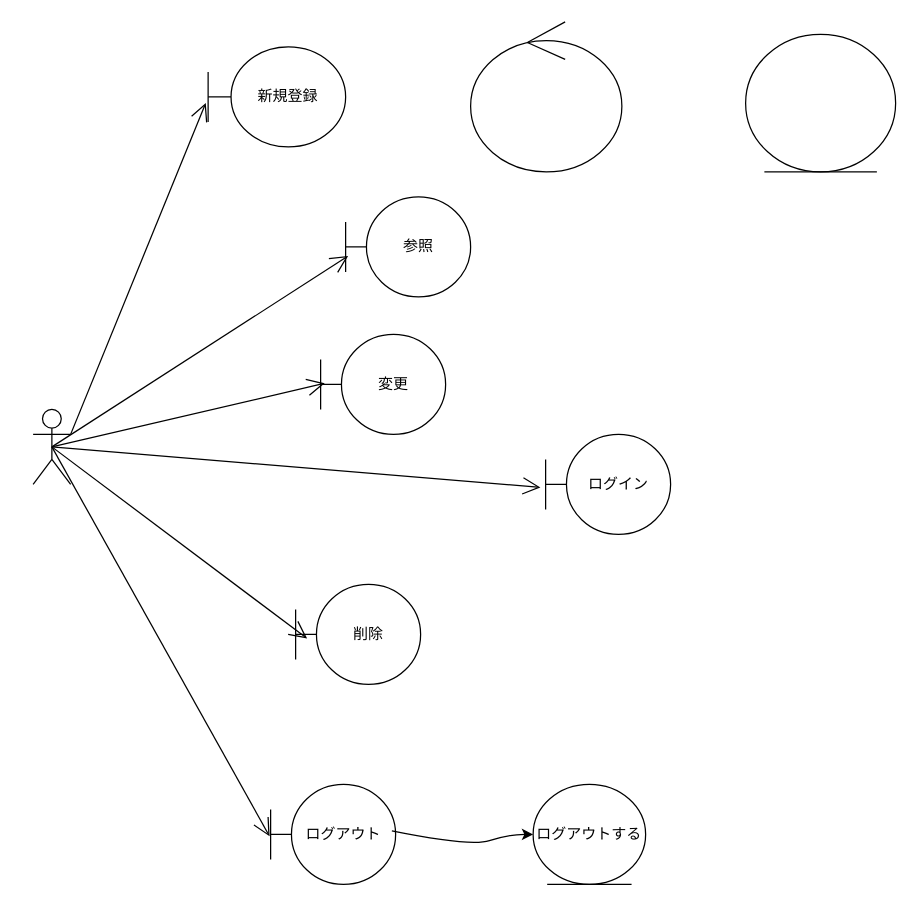
Image size: 918x906. Some labels were removed from this diagram. Each missing label, with the centre of its shape:
ユーザー: (x=51, y=446)
ユーザ情報の入力: (x=545, y=96)
登録完了: (x=820, y=102)
